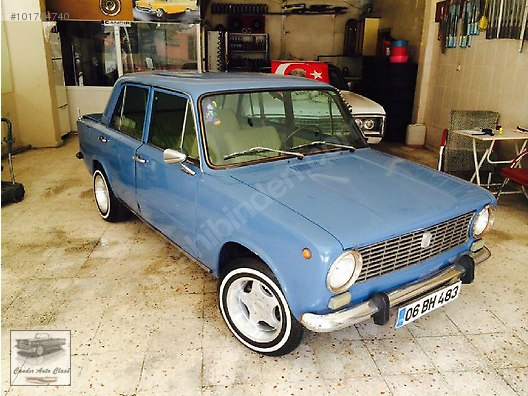murat: (91, 72, 503, 371)
